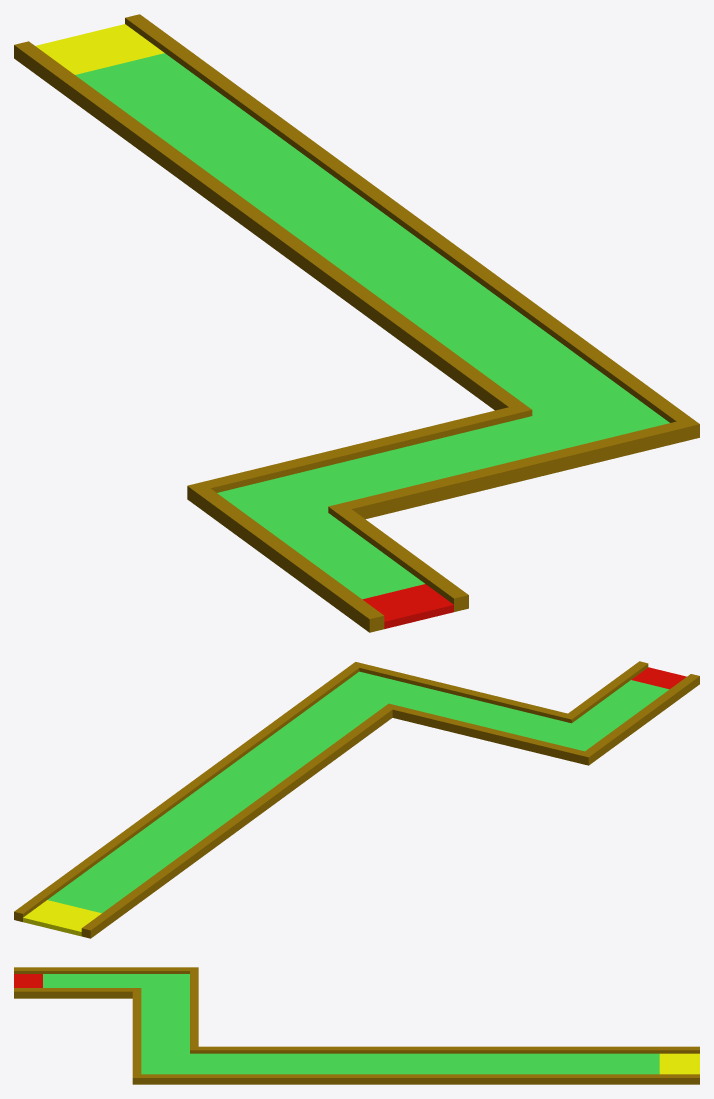
Rendered from Parcours.fbx.
3 renders of one model, top to bottom at view 1: azimuth 30°, elevation 25°; view 2: azimuth 150°, elevation 25°; view 3: azimuth 270°, elevation 25°, orthographic. The views are drawn at different scales.
Visible parts, largest first — view 1: Cube.010, Cube.008, Cube.011, Cube.009, Cube.007, Cube.002, Cube.006, Cube.004, Cube.003, Cube.012, Cube.001, Cube (+1 smaller); view 2: Cube.010, Cube.008, Cube.011, Cube.009, Cube.006, Cube.002, Cube.007, Cube.012, Cube.004, Cube.003, Cube.001, Cube (+1 smaller); view 3: Cube.010, Cube.009, Cube.008, Cube.011, Cube.001, Cube.002, Cube.003, Cube.012, Cube.007, Cube.004, Cube.006, Cube (+1 smaller).
Boxes of the visible parts, x1,y1,x2,y2 form: Cube.010: (75,53,628,415); Cube.008: (280,392,669,512); Cube.011: (14,41,532,419); Cube.009: (125,14,699,441); Cube.007: (328,421,685,519); Cube.002: (274,519,424,599); Cube.006: (187,407,517,504); Cube.004: (252,530,384,632); Cube.003: (217,477,336,534); Cube.012: (35,24,164,74); Cube.001: (336,509,468,611); Cube: (362,584,453,628); Cube.010: (47,693,384,913); Cube.008: (330,671,571,741); Cube.011: (81,703,397,938); Cube.009: (14,662,363,921); Cube.006: (392,706,593,765); Cube.002: (577,680,669,728); Cube.007: (359,664,576,723); Cube.012: (23,900,101,936); Cube.004: (619,674,699,736); Cube.003: (547,719,614,751); Cube.001: (568,661,648,719); Cube: (631,667,686,689); Cube.010: (190,1053,659,1074); Cube.009: (132,1074,699,1084); Cube.008: (141,991,189,1074); Cube.011: (190,1046,699,1053); Cube.001: (14,988,132,998); Cube.002: (43,974,132,987); Cube.003: (132,974,189,991); Cube.012: (659,1053,699,1074); Cube.007: (132,988,141,1074); Cube.004: (14,967,132,973); Cube.006: (190,967,198,1046); Cube: (14,974,42,987).
Bounding box in the file's own units: 1811 × 52.45 × 4747.
